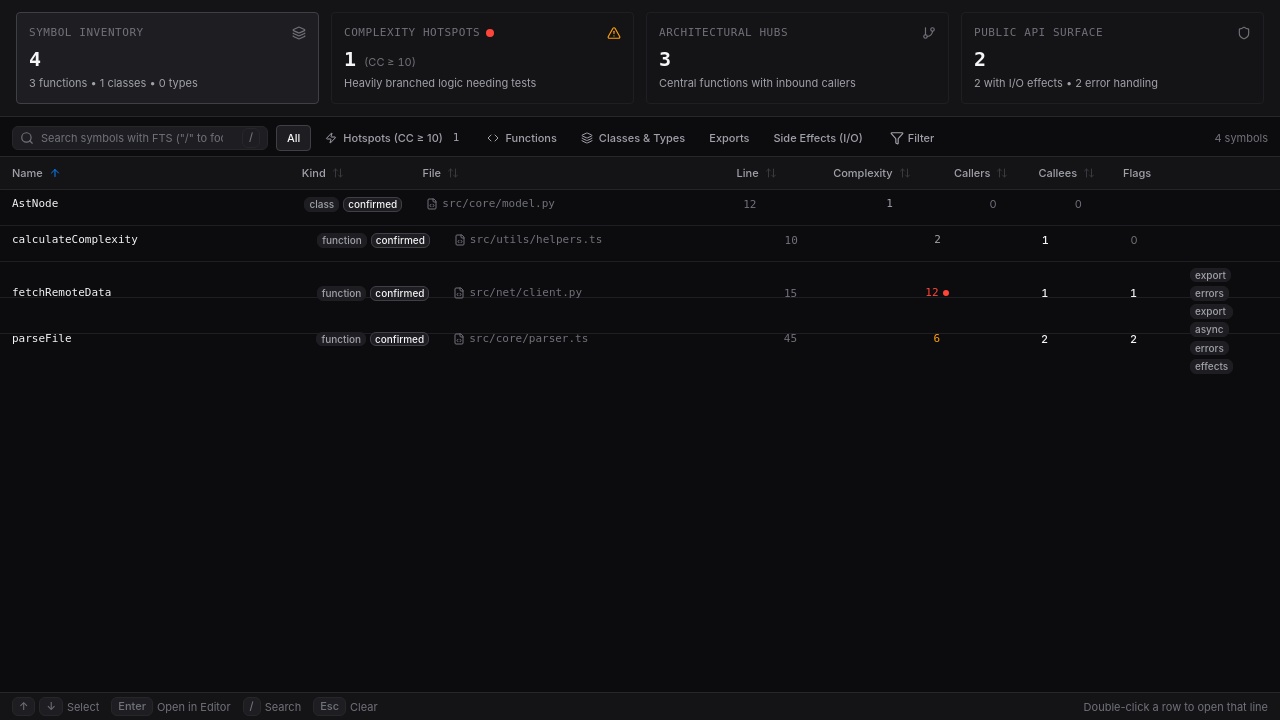
Test: CodeIntelligenceView Component › filters symbols by language dropdown
Click the button "Filter" at (912, 138), box [881, 126, 943, 150]
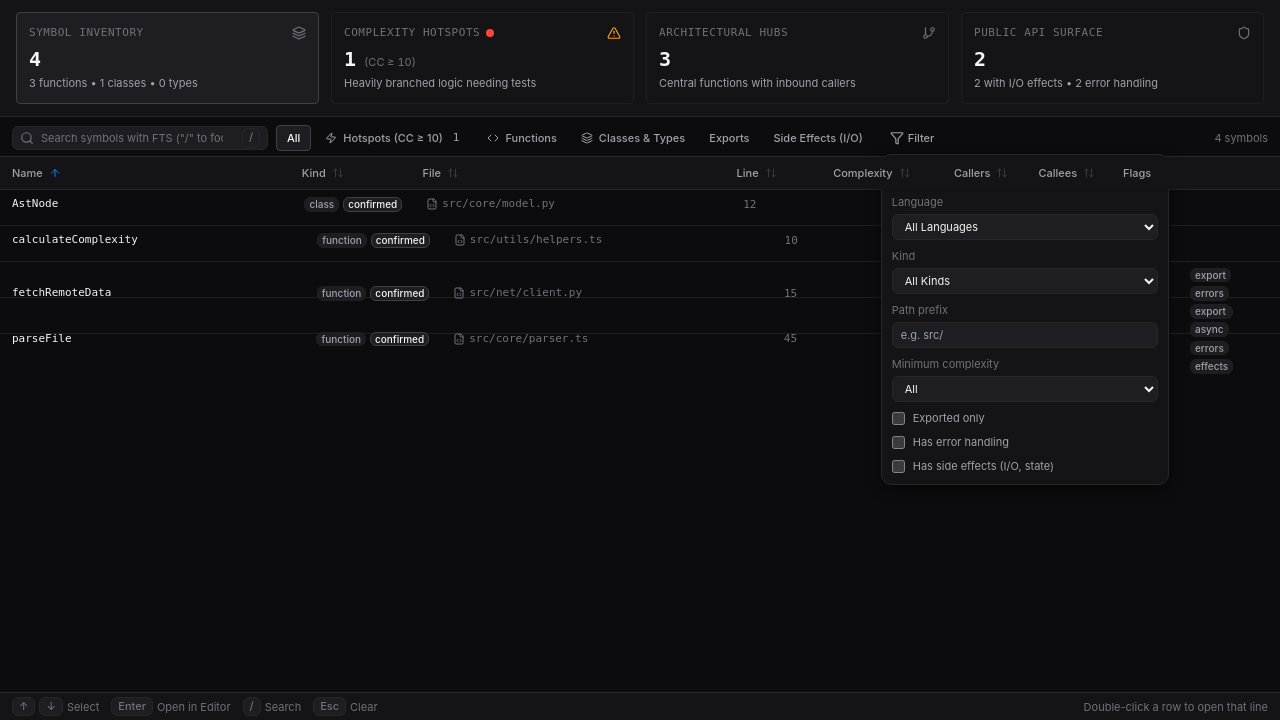
Select "Python" in the dropdown with test id "filter-language" at (1025, 227), box [892, 214, 1158, 240]
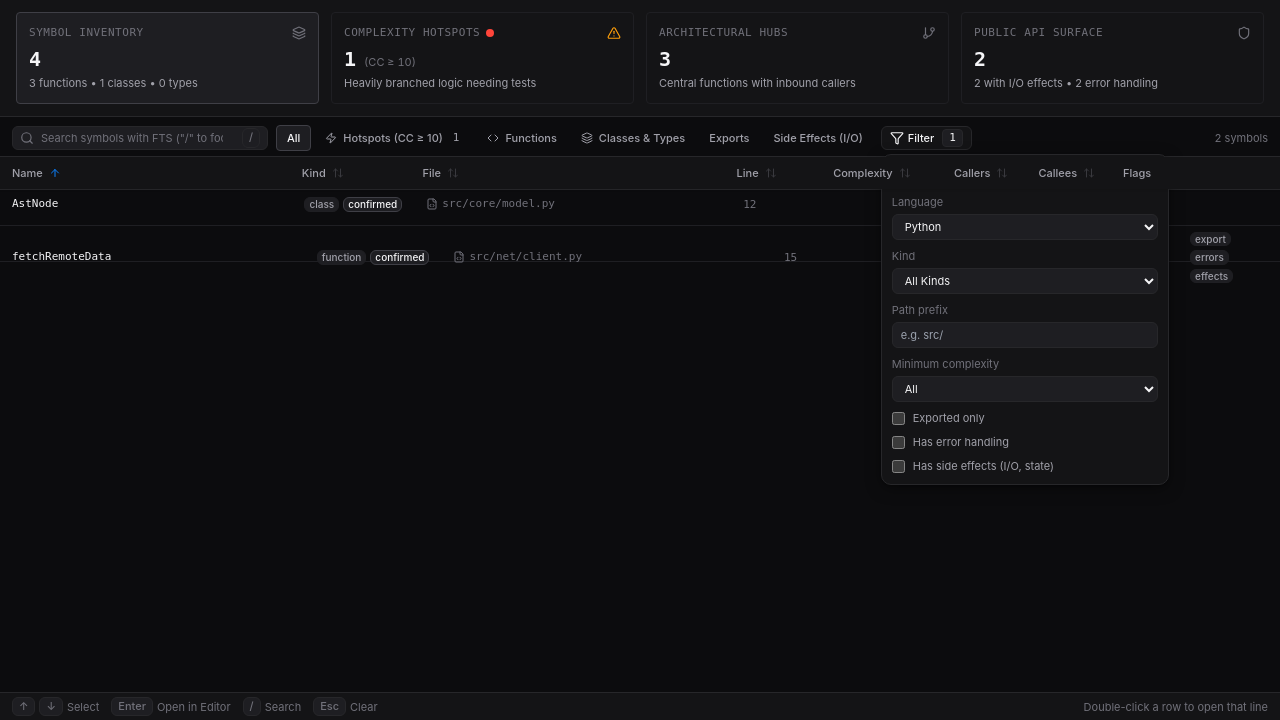
Expected: the text "fetchRemoteData" is shown, [12, 249, 111, 265]
Expected: the text "parseFile" is gone
Expected: the text "calculateComplexity" is gone
Select "TypeScript / JS" in the dropdown with test id "filter-language" at (1025, 227), box [892, 214, 1158, 240]
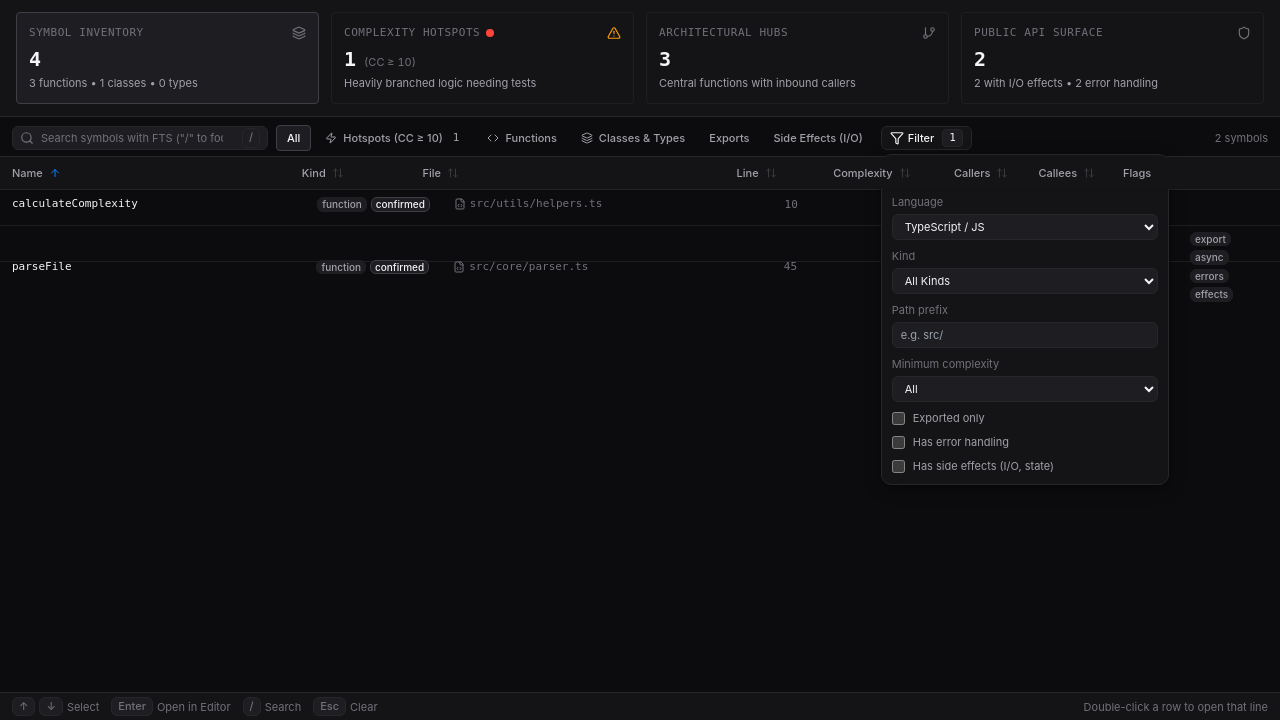
Expected: the text "parseFile" is shown, [12, 258, 72, 274]
Expected: the text "calculateComplexity" is shown, [12, 196, 138, 212]
Expected: the text "AstNode" is gone
